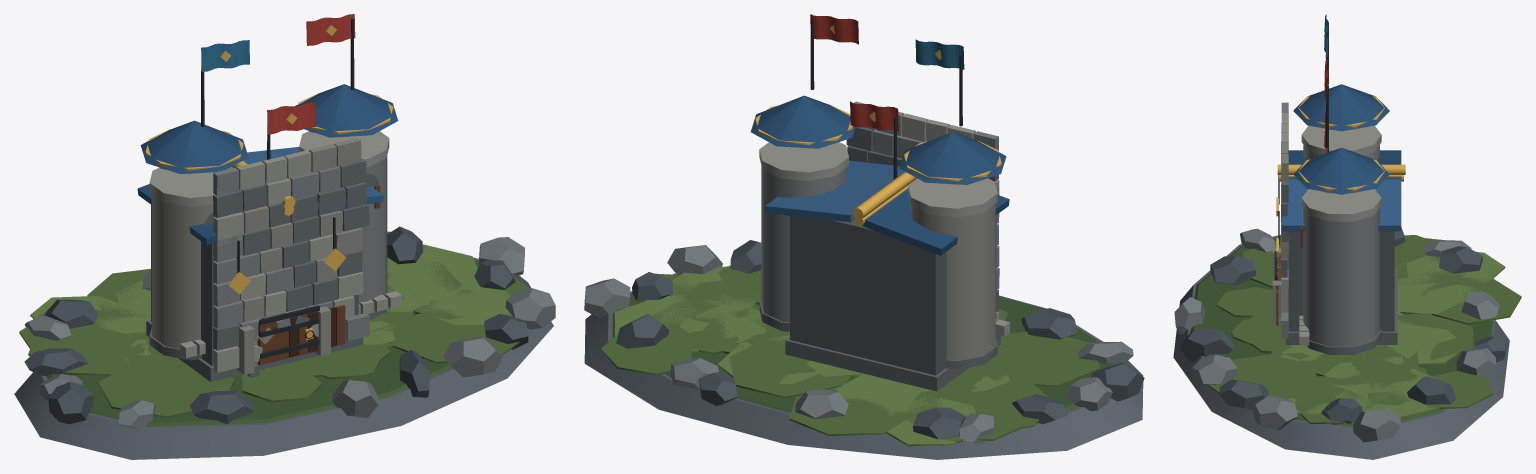
The model's file is castle.glb.
3 renders of one model, left to right at view 1: azimuth 30°, elevation 25°; view 2: azimuth 150°, elevation 25°; view 3: azimuth 270°, elevation 25°, orthographic. The views are drawn at different scales.
Visible parts, largest first — view 1: AlderfallKeep; view 2: AlderfallKeep; view 3: AlderfallKeep.
Boxes of the visible parts, x1,y1,x2,y2 form: AlderfallKeep: [14, 14, 555, 459]; AlderfallKeep: [584, 14, 1144, 459]; AlderfallKeep: [1173, 14, 1521, 459].
Size of the model in its own units: 17.87 by 12.36 by 11.84.
